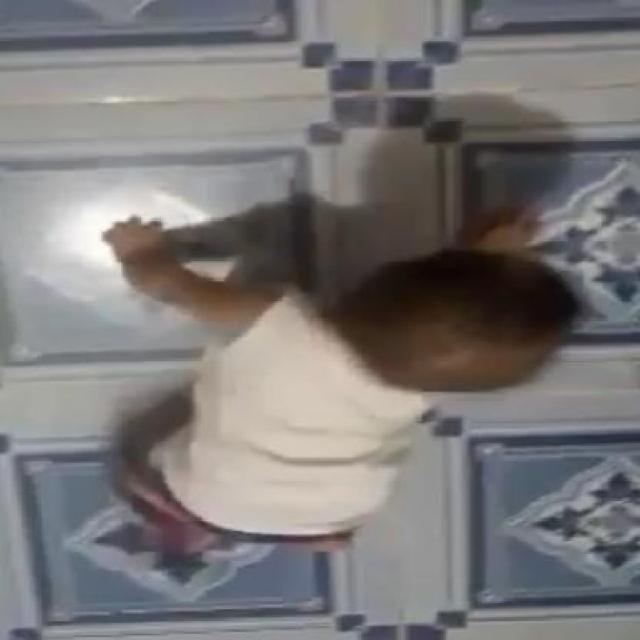baby: (100, 200, 583, 552)
